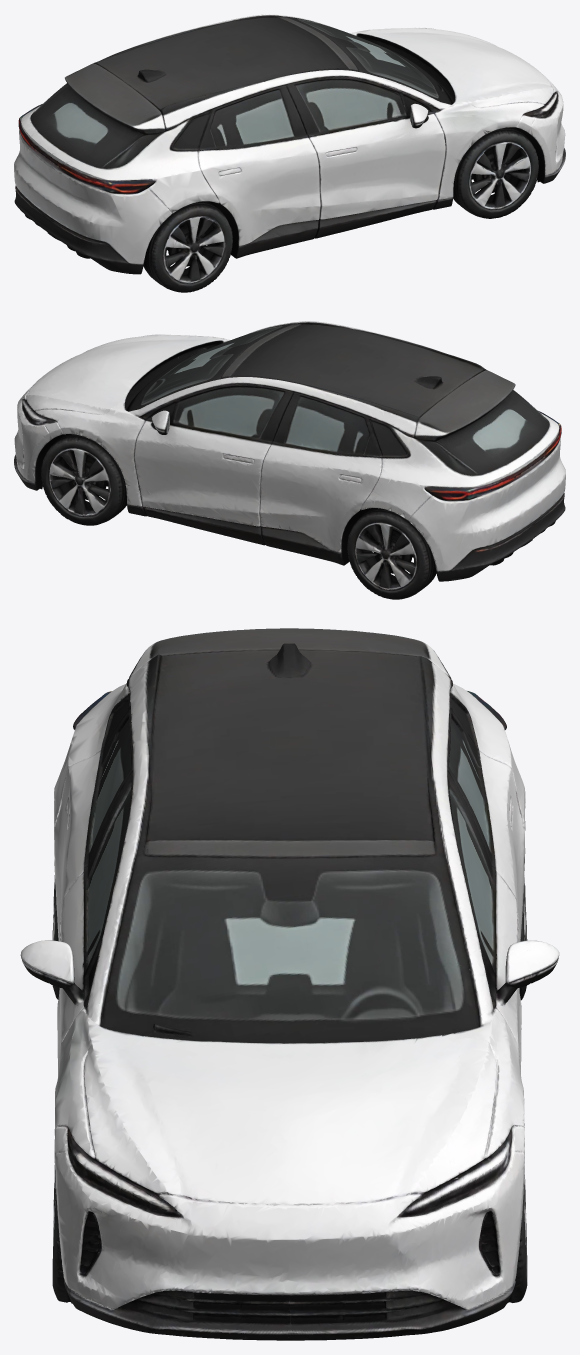
The model's file is rp1_vanta.glb.
3 renders of one model, top to bottom at view 1: azimuth 30°, elevation 25°; view 2: azimuth 150°, elevation 25°; view 3: azimuth 270°, elevation 25°, orthographic. The views are drawn at different scales.
Visible parts, largest first — view 1: body, wheel_RR_part, wheel_FR_part; view 2: body, wheel_RL_part, wheel_FL_part; view 3: body, wheel_FR_part, wheel_FL_part.
Boxes of the visible parts, <box> form: body: <box>14,14,565,274</box>; wheel_RR_part: <box>143,201,232,292</box>; wheel_FR_part: <box>453,127,538,218</box>; body: <box>14,321,565,581</box>; wheel_RL_part: <box>347,508,436,599</box>; wheel_FL_part: <box>41,434,127,525</box>; body: <box>20,628,559,1340</box>; wheel_FR_part: <box>52,1139,72,1303</box>; wheel_FL_part: <box>507,1138,527,1303</box>.
Size of the model in its own units: 1.9 by 0.6514 by 0.8885.
5 materials, 5 textured.
